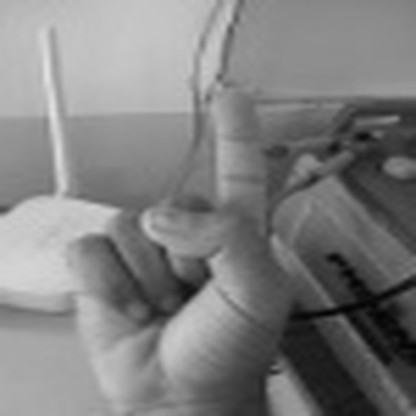d: (71, 89, 281, 416)
